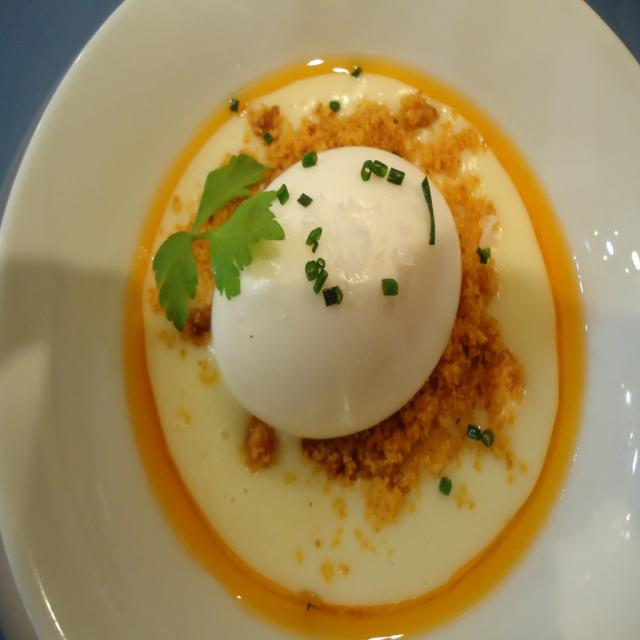Egg: (213, 144, 461, 438)
